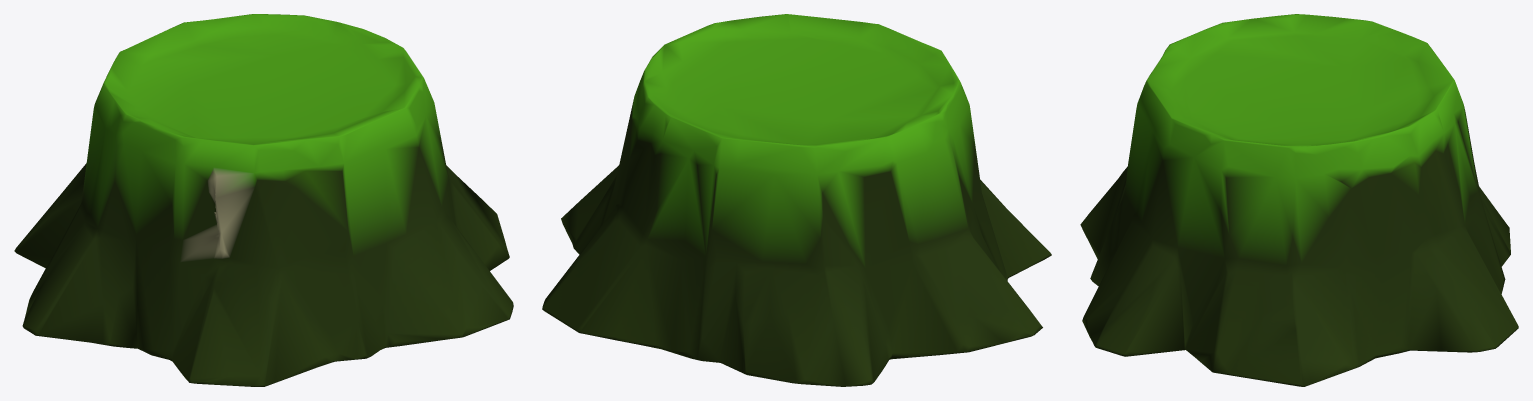
Rendered from gen3d-mossy-stump-lod1.glb.
The picture shows the model from 3 angles, left to right: view 1: azimuth 30°, elevation 25°; view 2: azimuth 150°, elevation 25°; view 3: azimuth 270°, elevation 25°; orthographic projection.
Parts seen in each view (by area): view 1: part_0; view 2: part_0; view 3: part_0.
Boxes of the visible parts, left/top/right/bottom form: part_0: left=14, top=14, right=513, bottom=386; part_0: left=542, top=14, right=1051, bottom=386; part_0: left=1080, top=14, right=1518, bottom=386.
Size of the model in its own units: 2.42 by 0.9999 by 1.96.
